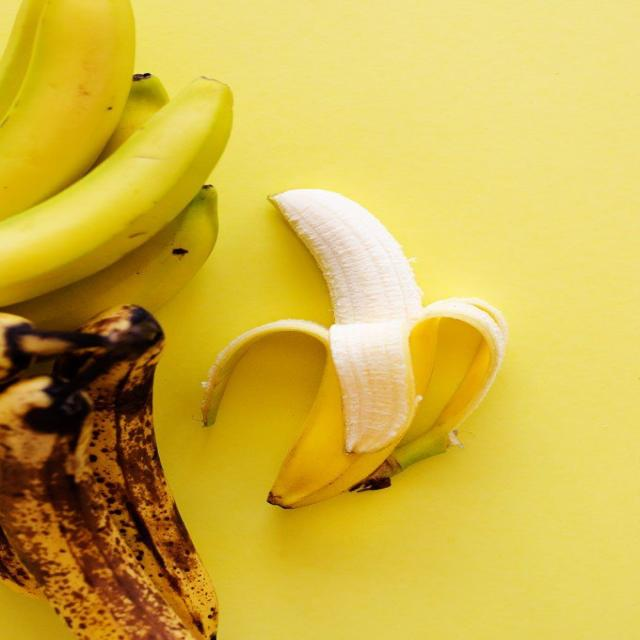banana: (204, 190, 506, 507), (57, 306, 217, 639), (0, 78, 232, 306), (0, 377, 192, 639), (5, 186, 217, 330), (0, 0, 134, 218), (0, 313, 111, 386), (96, 73, 169, 163), (0, 0, 47, 120), (0, 529, 43, 598)
